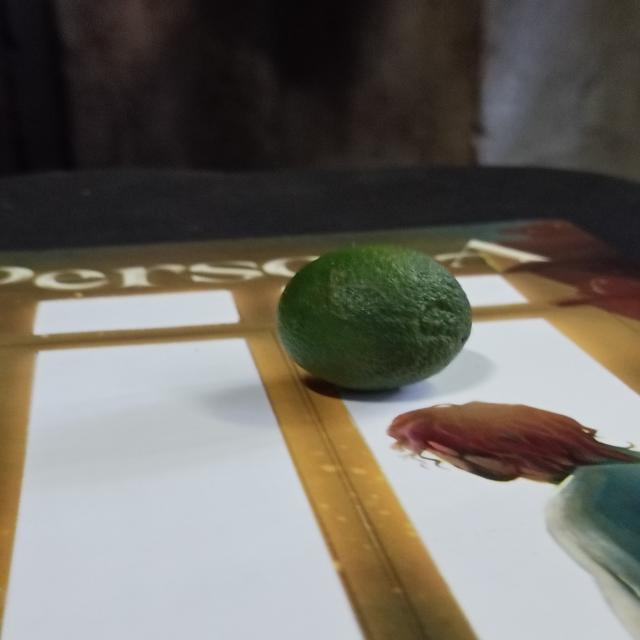heathy: (268, 233, 478, 398)
